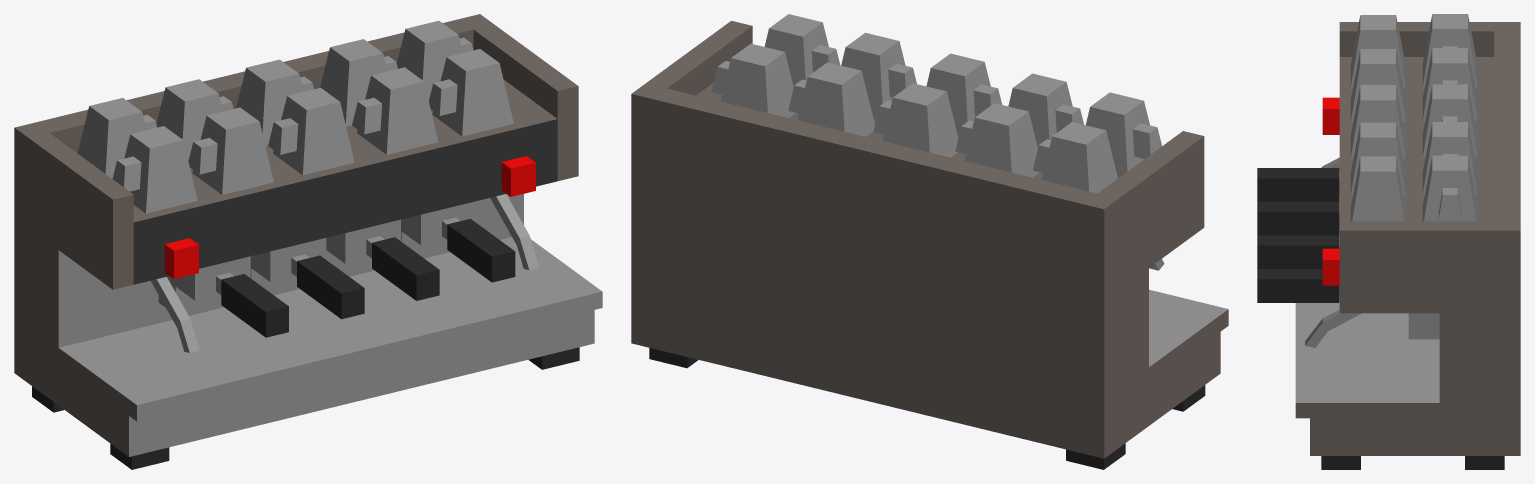
File: EspressoMachine_01.fbx
The picture shows the model from 3 angles, left to right: view 1: azimuth 30°, elevation 25°; view 2: azimuth 150°, elevation 25°; view 3: azimuth 270°, elevation 25°; orthographic projection. The views are drawn at different scales.
Parts seen in each view (by area): view 1: EspressoMachine_01; view 2: EspressoMachine_01; view 3: EspressoMachine_01.
Boxes of the visible parts, x1,y1,x2,y2 form: EspressoMachine_01: (14,14,602,469); EspressoMachine_01: (631,14,1228,469); EspressoMachine_01: (1257,14,1520,469).
Size of the model in its own units: 217 by 132 by 116.
